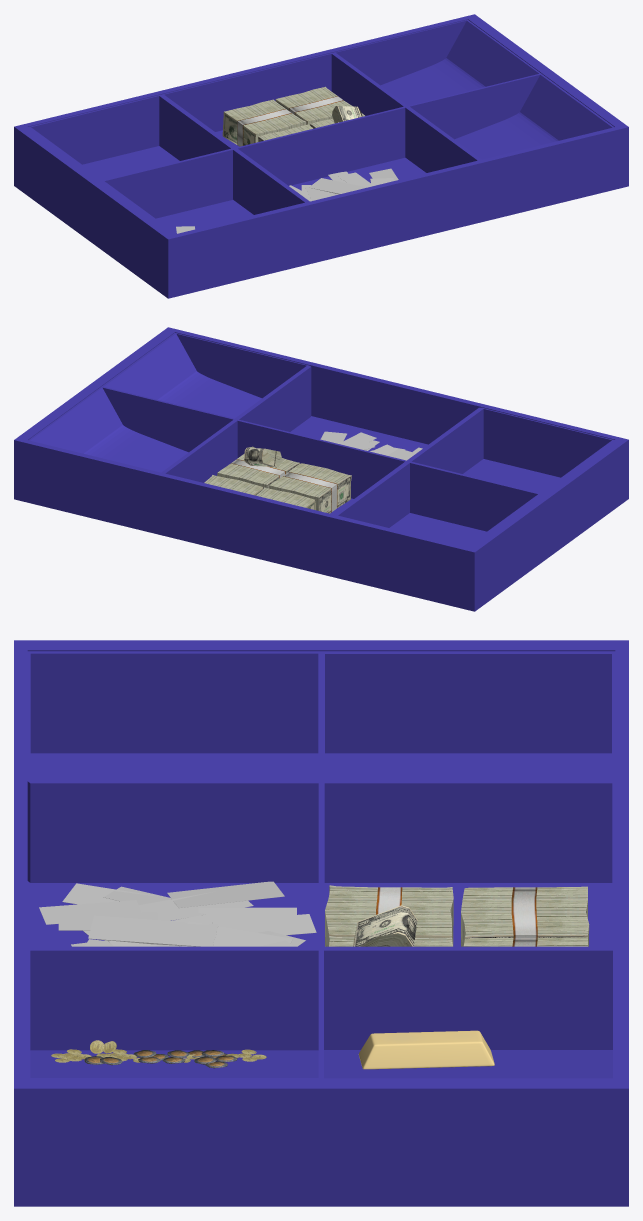
The model's file is cashCaanteen.fbx.
3 renders of one model, top to bottom at view 1: azimuth 30°, elevation 25°; view 2: azimuth 150°, elevation 25°; view 3: azimuth 270°, elevation 25°, orthographic. The views are drawn at different scales.
Visible parts, largest first — view 1: Cube, stacks.002, Hundred Dollar Bill.004, stacks.050, stacks.001; view 2: Cube, stacks.050, stacks.002, Hundred Dollar Bill.004, stacks.001; view 3: Cube, Hundred Dollar Bill.004, stacks.002, stacks.050, Cube.001, stacks.001, Moneda, Пустышка.003.
Boxes of the visible parts, x1=… form: Cube: x1=14, y1=14, x2=628, y2=298; stacks.002: x1=222, y1=86, x2=352, y2=146; Hundred Dollar Bill.004: x1=289, y1=168, x2=398, y2=201; stacks.050: x1=258, y1=113, x2=364, y2=141; stacks.001: x1=332, y1=106, x2=362, y2=123; Cube: x1=14, y1=327, x2=628, y2=611; stacks.050: x1=217, y1=454, x2=351, y2=513; stacks.002: x1=204, y1=475, x2=315, y2=509; Hundred Dollar Bill.004: x1=320, y1=431, x2=422, y2=460; stacks.001: x1=244, y1=446, x2=282, y2=467; Cube: x1=14, y1=640, x2=628, y2=1206; Hundred Dollar Bill.004: x1=39, y1=881, x2=316, y2=946; stacks.002: x1=461, y1=886, x2=589, y2=946; stacks.050: x1=325, y1=885, x2=453, y2=946; Cube.001: x1=358, y1=1030, x2=494, y2=1069; stacks.001: x1=353, y1=905, x2=417, y2=946; Moneda: x1=84, y1=1050, x2=237, y2=1068; Пустышка.003: x1=51, y1=1040, x2=266, y2=1062.
Bounding box in the file's own units: 271 × 33.33 × 157.
